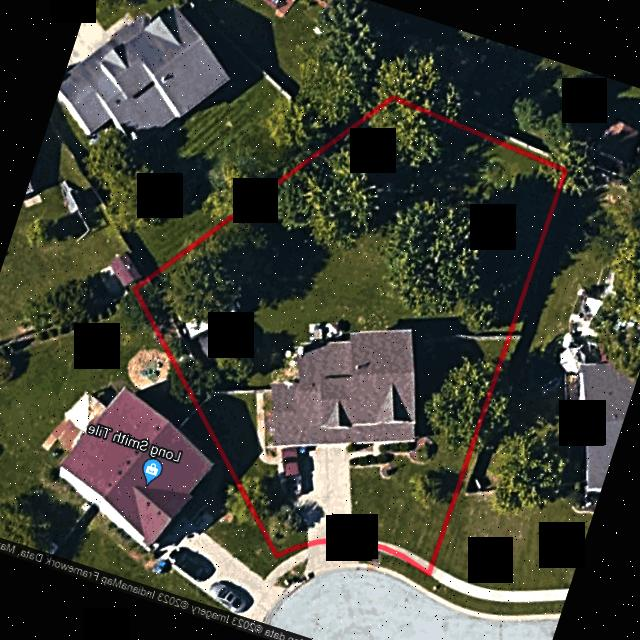Driveway: (275, 444, 352, 541)
Extra Driveway: (299, 542, 359, 577)
Extra Lawn: (352, 547, 429, 587), (280, 557, 307, 587)
Extra Sidewalk: (352, 542, 405, 560), (277, 546, 307, 575)
House: (266, 330, 416, 445)
Other: (184, 302, 239, 356), (307, 322, 347, 345), (407, 434, 434, 462), (283, 344, 305, 358), (378, 464, 394, 478)
Sidewalk: (357, 537, 429, 569), (255, 390, 275, 464), (347, 441, 381, 459)
